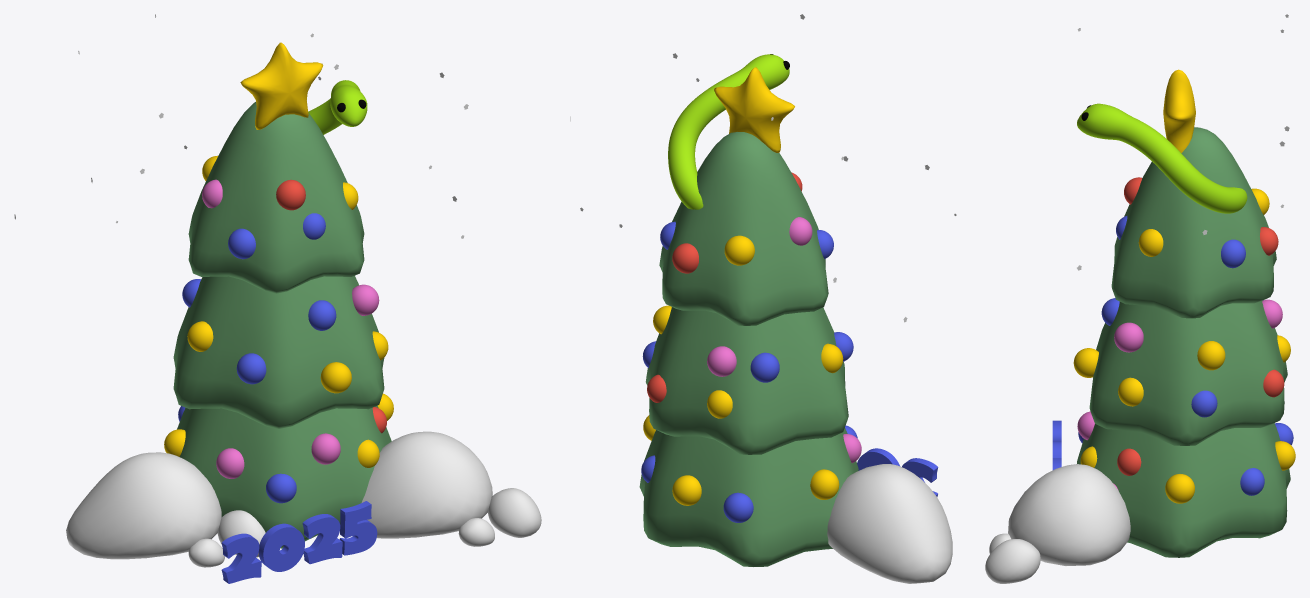
3 renders of one model, left to right at view 1: azimuth 30°, elevation 25°; view 2: azimuth 150°, elevation 25°; view 3: azimuth 270°, elevation 25°, orthographic. The views are drawn at different scales.
Visible parts, largest first — view 1: Cylinder.001, Cylinder.003, Cylinder.002, Sphere.032, Sphere.018, Text, Zvezda, Zmeya, Sphere.004, Sphere.014, Sphere.024, Sphere (+5 smaller); view 2: Cylinder.001, Cylinder.003, Cylinder.002, Sphere.032, Zmeya, Zvezda, Text, Sphere.013, Sphere.021, Sphere.027, Sphere.009, Sphere.012 (+5 smaller); view 3: Cylinder.001, Cylinder.003, Cylinder.002, Sphere.018, Zmeya, Zvezda, Sphere.005, Sphere.023, Sphere.006, Sphere.004, Sphere.002, Sphere.031 (+9 smaller).
Boxes of the visible parts, x1,y1,x2,y2 form: Cylinder.001: (173, 275, 384, 428); Cylinder.003: (188, 102, 364, 293); Cylinder.002: (177, 405, 391, 548); Sphere.032: (66, 452, 265, 567); Sphere.018: (361, 431, 541, 546); Text: (221, 501, 377, 583); Zvezda: (240, 42, 323, 129); Zmeya: (308, 80, 367, 134); Sphere.004: (320, 362, 351, 393); Sphere.014: (236, 353, 266, 384); Sphere.024: (311, 433, 340, 464); Sphere: (266, 473, 296, 503); Cylinder.001: (645, 307, 848, 454); Cylinder.003: (659, 132, 828, 325); Cylinder.002: (639, 428, 858, 566); Sphere.032: (827, 464, 952, 583); Zmeya: (668, 54, 789, 209); Zvezda: (714, 67, 794, 152); Text: (857, 448, 938, 496); Sphere.013: (724, 235, 754, 265); Sphere.021: (723, 492, 753, 522); Sphere.027: (707, 346, 736, 376); Sphere.009: (672, 475, 701, 505); Sphere.012: (810, 469, 839, 499); Cylinder.001: (1089, 301, 1287, 445); Cylinder.003: (1111, 127, 1276, 318); Cylinder.002: (1077, 423, 1290, 557); Sphere.018: (985, 464, 1130, 583); Zmeya: (1077, 103, 1247, 213); Zvezda: (1163, 69, 1195, 153); Sphere.005: (1165, 474, 1194, 503); Sphere.023: (1114, 322, 1143, 352); Sphere.006: (1197, 341, 1225, 370); Sphere.004: (1073, 348, 1098, 377); Sphere.002: (1118, 377, 1143, 406); Sphere.031: (1221, 239, 1245, 268).
Size of the model in its own units: 1.42 by 1.71 by 1.04.
